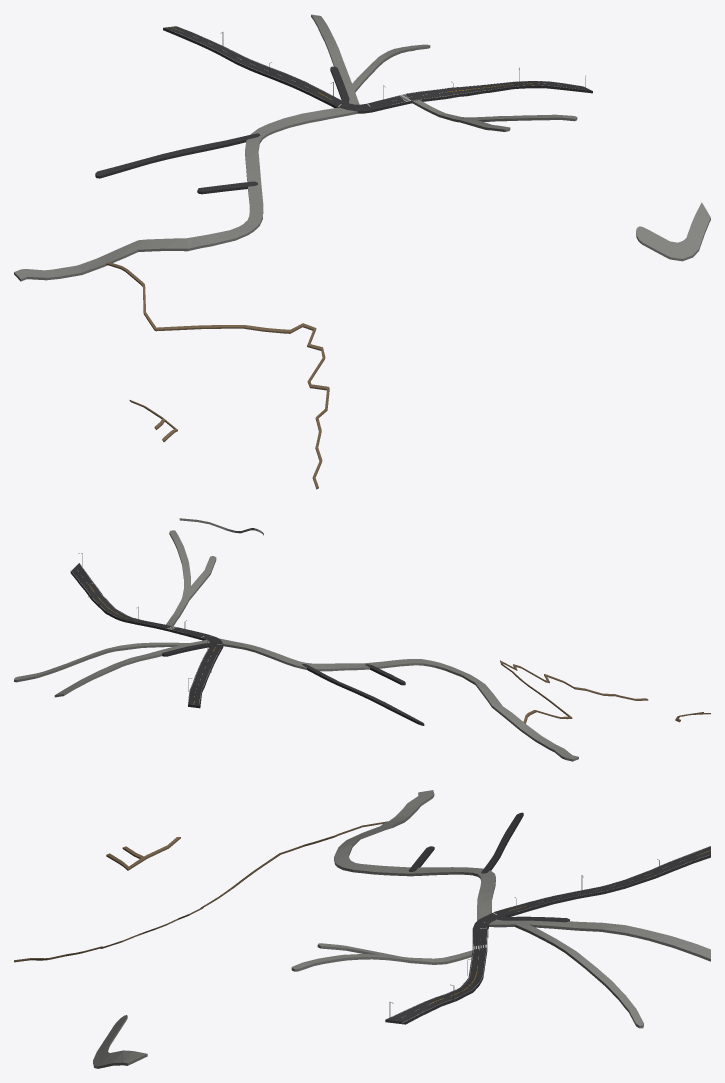
3 renders of one model, top to bottom at view 1: azimuth 30°, elevation 25°; view 2: azimuth 150°, elevation 25°; view 3: azimuth 270°, elevation 25°, orthographic. The views are drawn at different scales.
Size of the model in its own units: 295 by 96.42 by 292.
